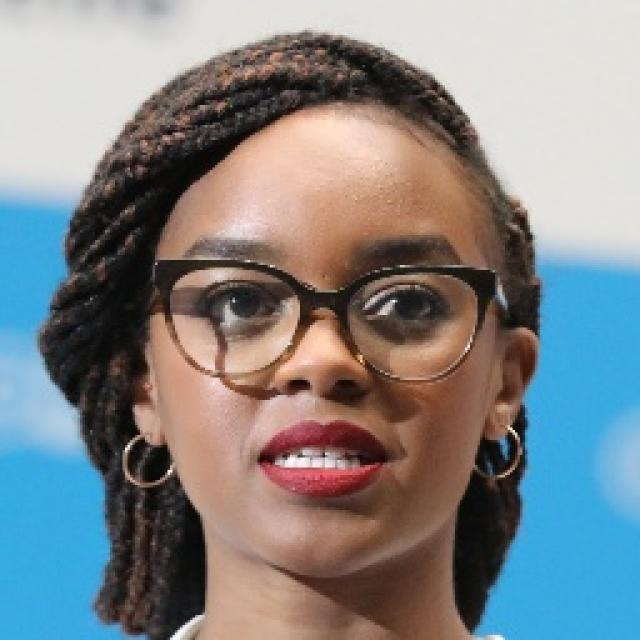earlobe: (132, 416, 170, 446), (485, 412, 517, 447)
eye: (357, 287, 446, 325), (202, 284, 276, 328)
nose: (278, 375, 368, 413)
wholeear: (480, 328, 540, 446), (114, 324, 164, 447)
